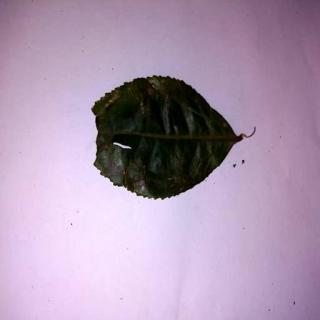Anthracnose: (93, 73, 241, 197)
